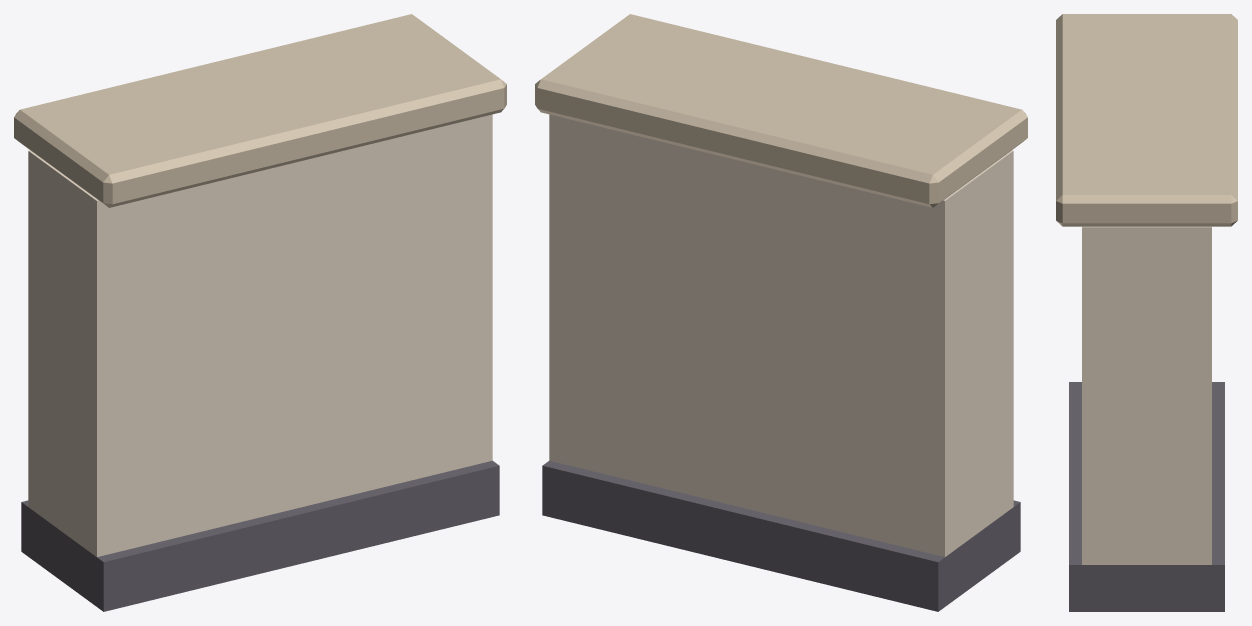
The model's file is stair_wall.glb.
The picture shows the model from 3 angles, left to right: view 1: azimuth 30°, elevation 25°; view 2: azimuth 150°, elevation 25°; view 3: azimuth 270°, elevation 25°; orthographic projection. The views are drawn at different scales.
Visible parts, largest first — view 1: stair_wall; view 2: stair_wall; view 3: stair_wall.
Part boxes in pixels (left/top/right/bottom): stair_wall: left=14, top=14, right=506, bottom=611; stair_wall: left=535, top=14, right=1027, bottom=611; stair_wall: left=1056, top=14, right=1237, bottom=611.
Size of the model in its own units: 1.02 by 1.06 by 0.42.
2 materials, 2 textured.
